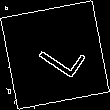L_NW: (25, 28, 85, 82)
